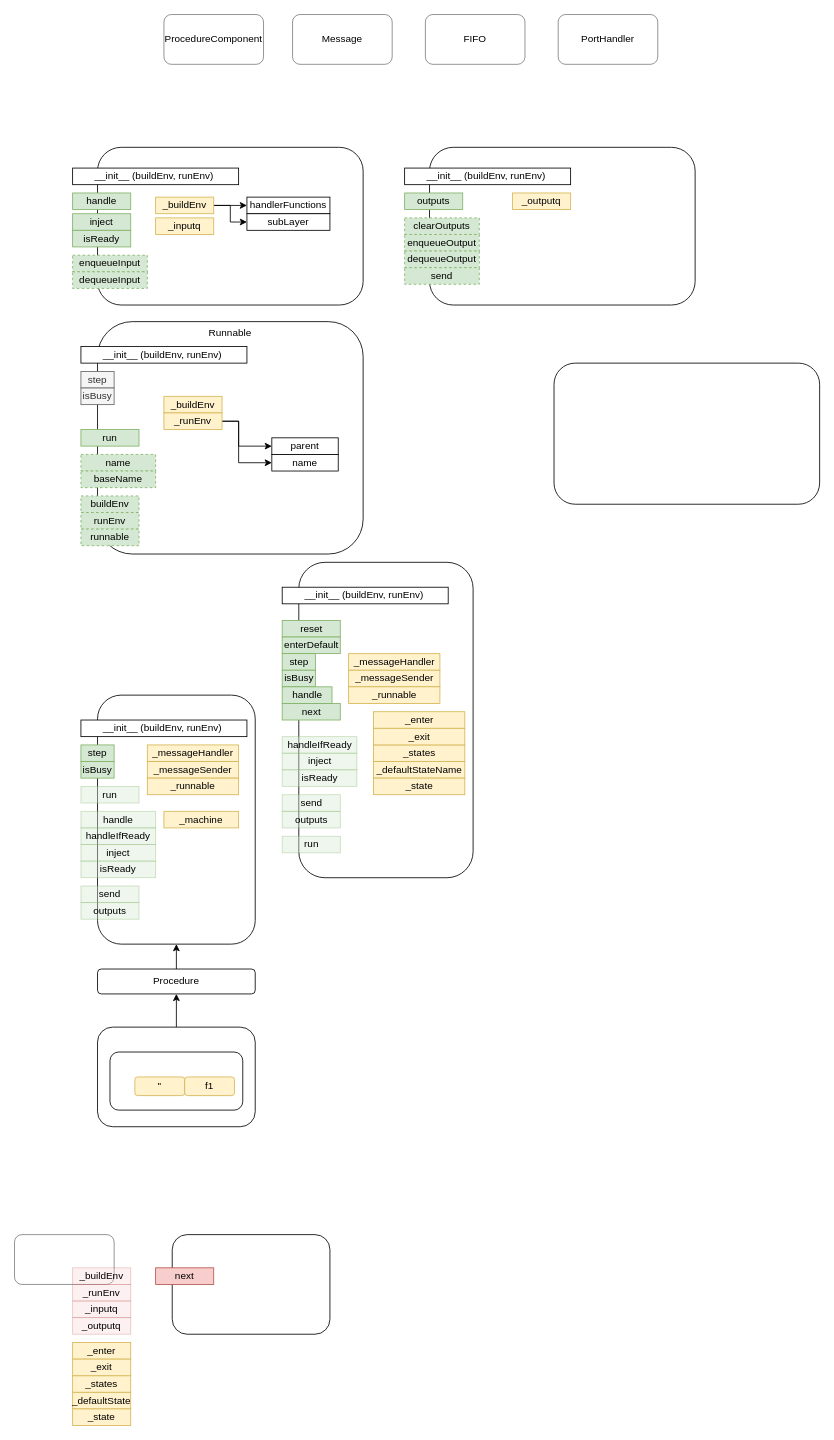
The diagram is 834 pixels wide and 1440 high, and some of its shapes have lost their labels. The shapes that lost their labels are listed below. From the top down, each one's box as (x1, y1, x2, y2) in pixels, then its label:
(97, 146, 363, 305): MessageHandler
(429, 146, 695, 305): MessageSender
(553, 362, 820, 504): MessageRouter
(298, 561, 473, 878): HSM
(97, 694, 255, 944): State
(97, 1026, 255, 1127): Echo
(109, 1051, 243, 1110): buildEnv'.handlerFunctions
(14, 1234, 114, 1284): SubHSM
(171, 1234, 330, 1334): Leaf
